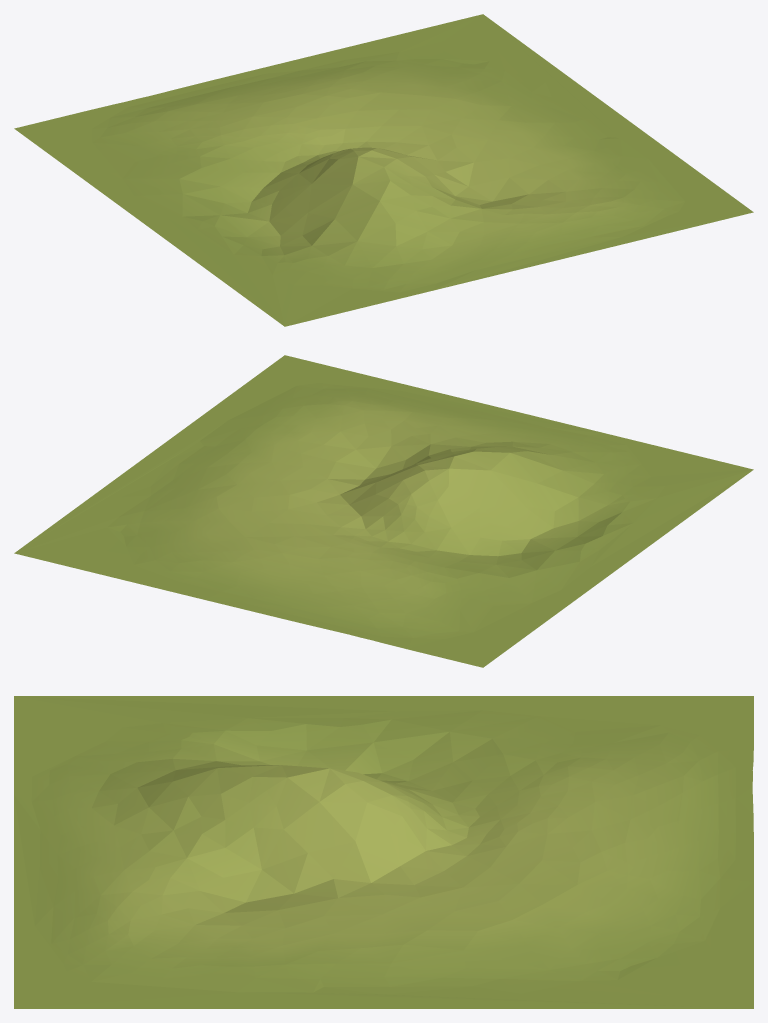
The model's file is Terrain_10.fbx.
The picture shows the model from 3 angles, top to bottom: view 1: azimuth 30°, elevation 25°; view 2: azimuth 150°, elevation 25°; view 3: azimuth 270°, elevation 25°; orthographic projection. The views are drawn at different scales.
Parts seen in each view (by area): view 1: Terrain_10; view 2: Terrain_10; view 3: Terrain_10.
Boxes of the visible parts, x1,y1,x2,y2 form: Terrain_10: (14,14,753,326); Terrain_10: (14,355,753,667); Terrain_10: (14,696,753,1008).
Size of the model in its own units: 128 by 12.55 by 128.
